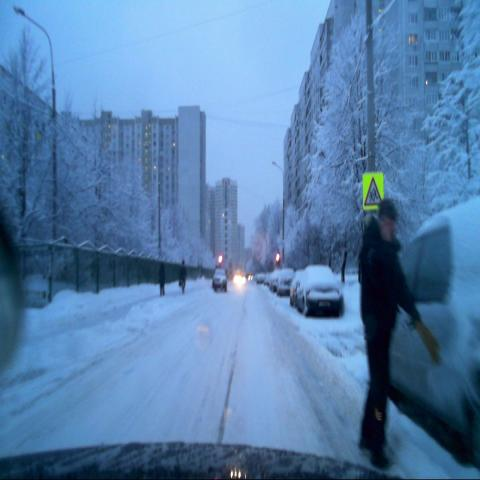1_23: (362, 172, 385, 209)
